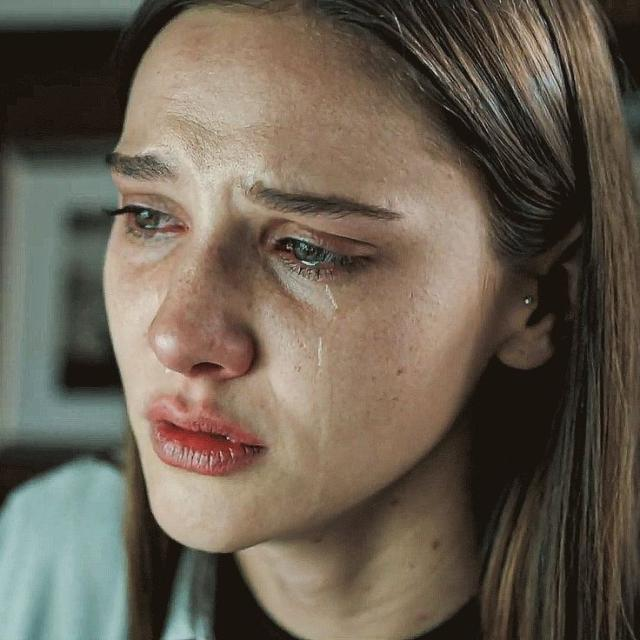sem_oculos: (106, 138, 498, 322)
